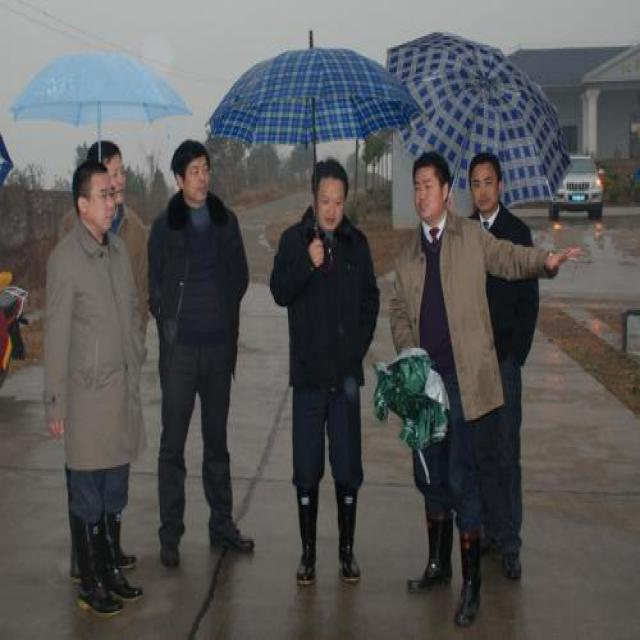head: (72, 151, 118, 237), (407, 147, 452, 225), (310, 153, 352, 236), (170, 135, 216, 207), (466, 149, 505, 215), (91, 133, 128, 199)
person: (376, 142, 506, 628), (257, 149, 385, 593), (39, 156, 149, 630), (149, 140, 259, 576), (457, 143, 549, 611)
